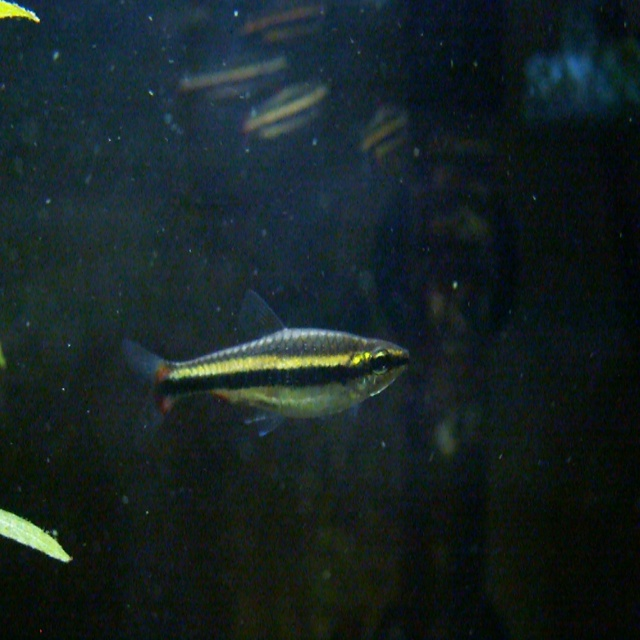Fish: (122, 293, 414, 440), (236, 81, 337, 138)
